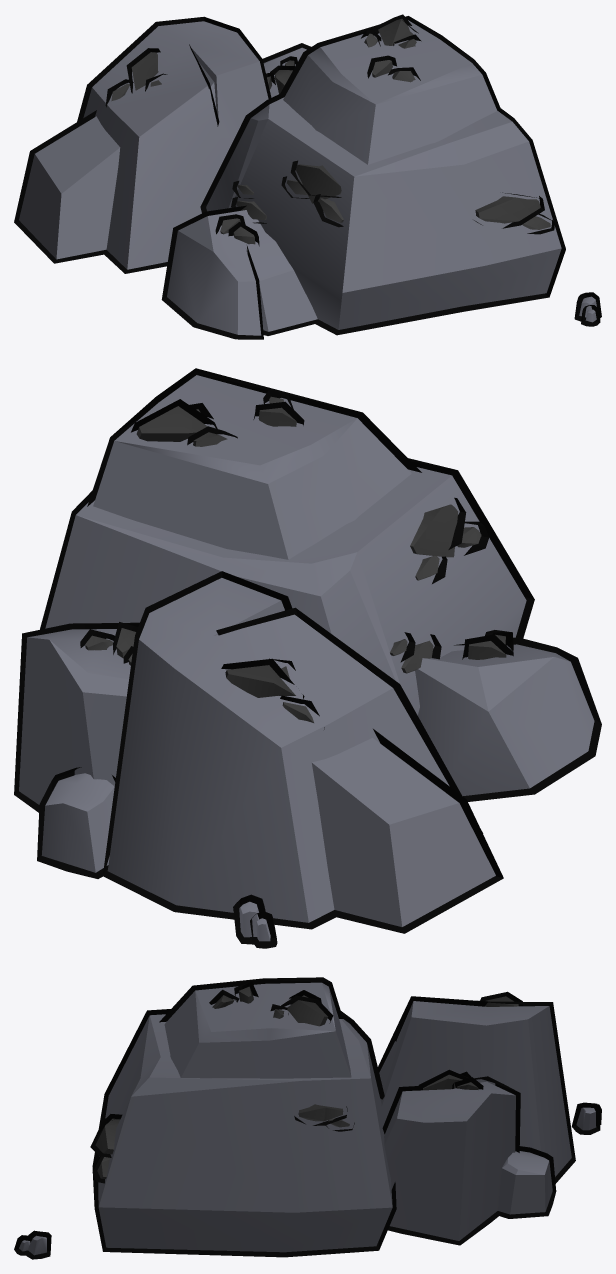
Rendered from Coal.fbx.
The picture shows the model from 3 angles, top to bottom: view 1: azimuth 30°, elevation 25°; view 2: azimuth 150°, elevation 25°; view 3: azimuth 270°, elevation 25°; orthographic projection. The views are drawn at different scales.
Parts seen in each view (by area): view 1: Box018, Box019; view 2: Box018, Box019; view 3: Box018, Box019.
Part boxes in pixels (left/top/right/bottom): Box018: left=19, top=18, right=596, bottom=335; Box019: left=14, top=14, right=601, bottom=339; Box018: left=19, top=375, right=594, bottom=941; Box019: left=14, top=368, right=601, bottom=948; Box018: left=19, top=982, right=596, bottom=1255; Box019: left=14, top=977, right=601, bottom=1259.
Size of the model in its own units: 119 by 71.69 by 164.
